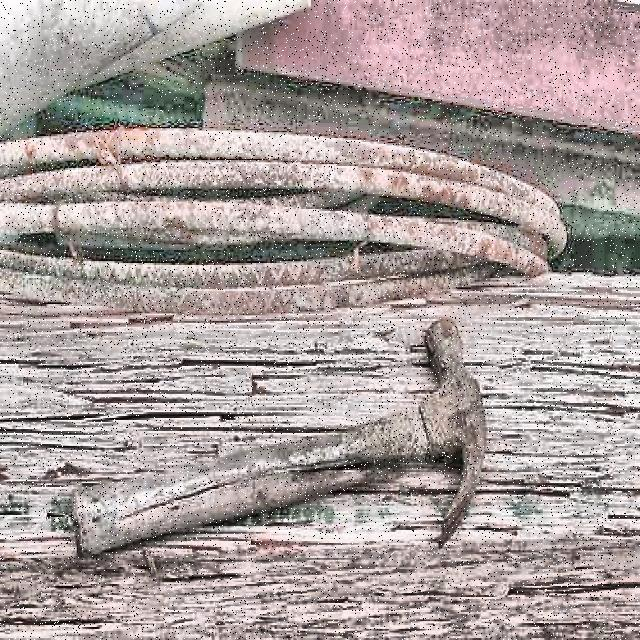hammer: (75, 317, 487, 570)
